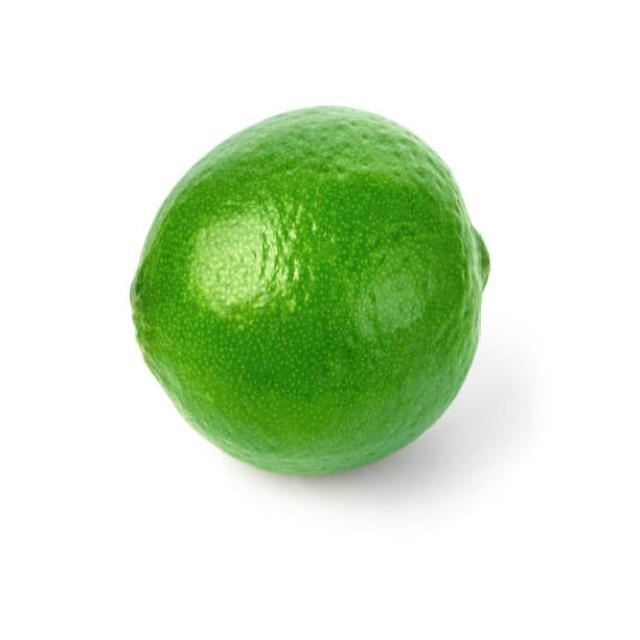Unripe: (128, 101, 490, 478)
